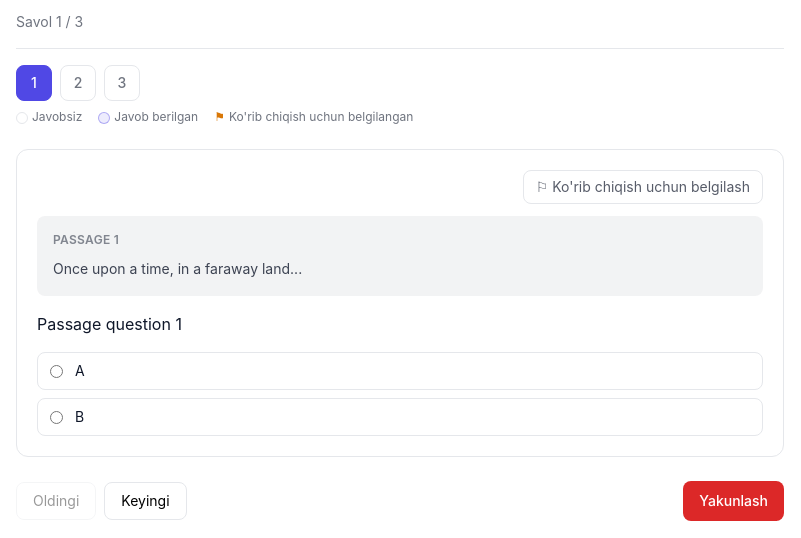
it: AttemptPage — Sprint 77 QuestionGroup/stimulus_text delivery › multiple distinct groups each render their own stimulus correctly
Expected: the text "Passage question 1" is shown, [37,314,182,334]
Expected: the element with test id "group-stimulus" shows "Once upon a time", [53,260,302,277]
Click the button "Keyingi" at [145, 501], box [104,482,187,520]
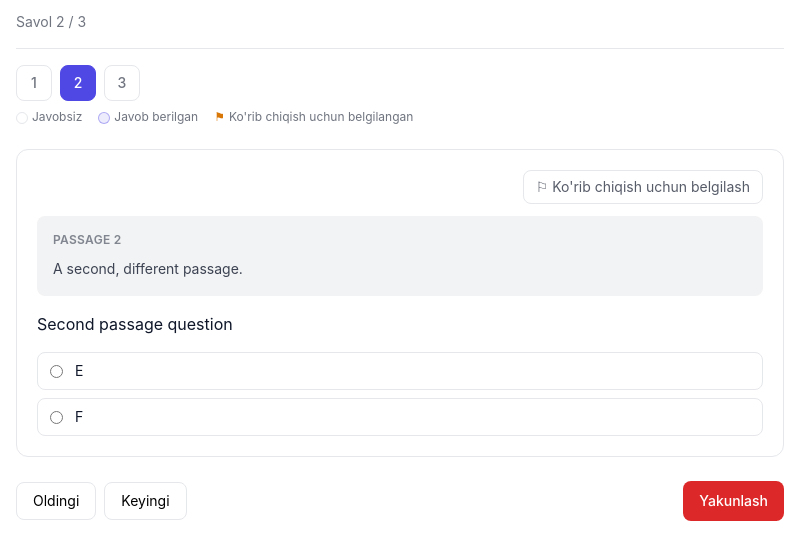
Expected: the text "Second passage question" is shown, [37,314,233,334]
Expected: the element with test id "group-stimulus" shows "A second, different passage.", [53,260,243,277]
Click the button "Keyingi" at [145, 501], box [104,482,187,520]
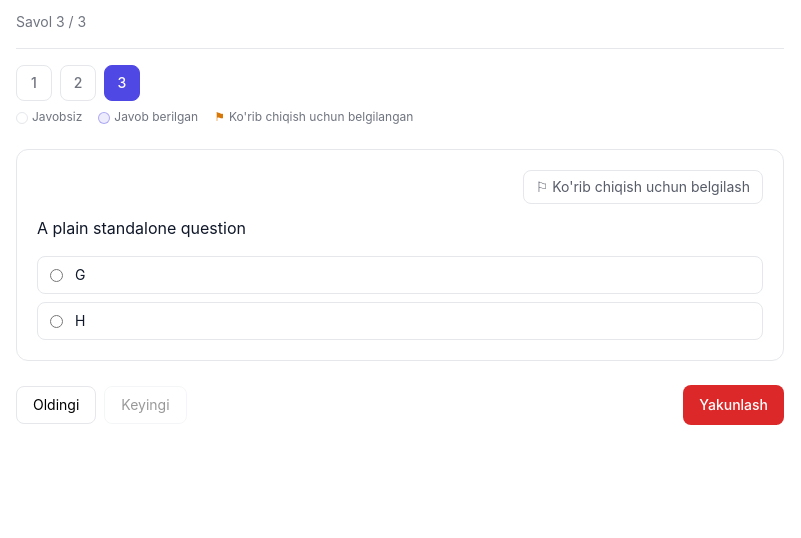
Expected: the text "A plain standalone question" is shown, [37,218,246,238]
Expected: the element with test id "group-stimulus" is gone
